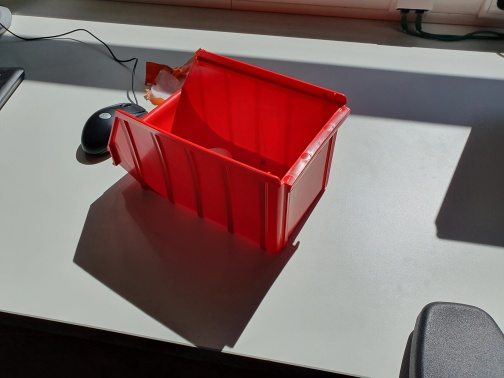tray_right: (107, 108, 284, 255)
